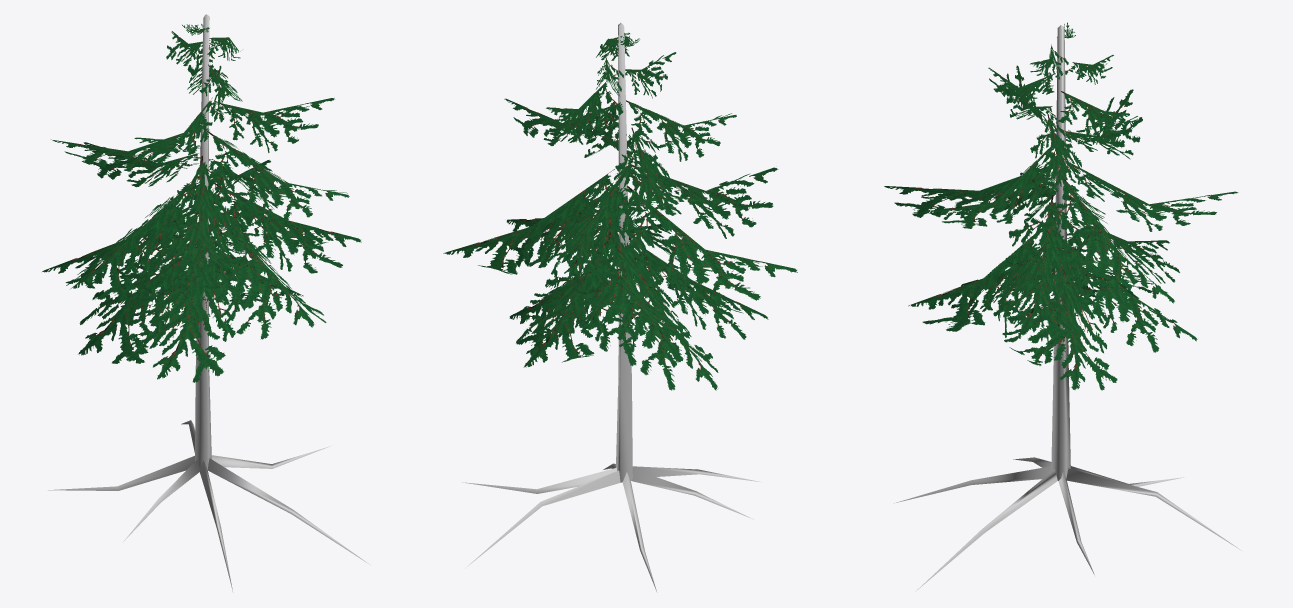
The model's file is Pine_6_LOD2.fbx.
The picture shows the model from 3 angles, left to right: view 1: azimuth 30°, elevation 25°; view 2: azimuth 150°, elevation 25°; view 3: azimuth 270°, elevation 25°; orthographic projection.
Visible parts, largest first — view 1: Tree_1, Tree_0; view 2: Tree_1, Tree_0; view 3: Tree_1, Tree_0.
Part boxes in pixels (bbox=[...]): Tree_1: bbox=[42, 24, 361, 382]; Tree_0: bbox=[48, 14, 369, 592]; Tree_1: bbox=[443, 32, 797, 390]; Tree_0: bbox=[462, 23, 761, 592]; Tree_1: bbox=[884, 22, 1238, 390]; Tree_0: bbox=[894, 25, 1241, 591].
Bounding box in the file's own units: 53.62 × 72.5 × 52.8.
